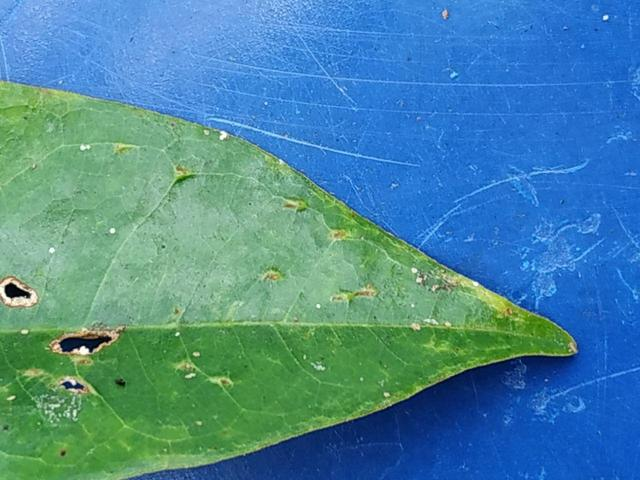blight spot: (41, 321, 126, 407), (1, 273, 43, 312)
